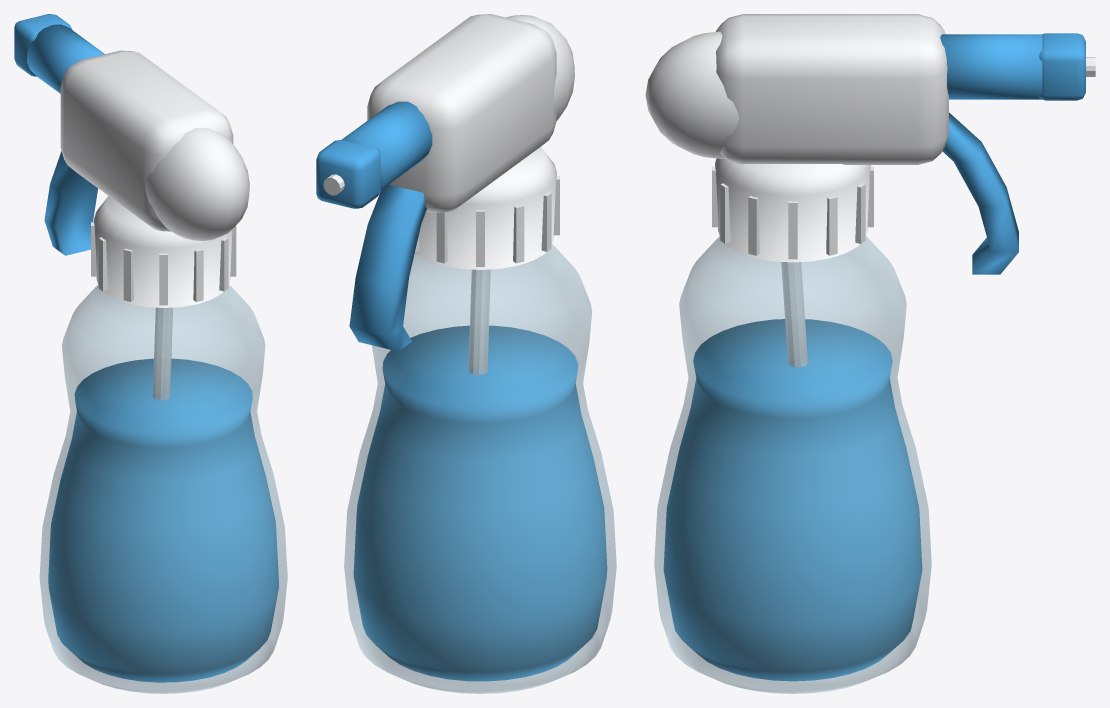
Rendered from spray_bottle.glb.
3 renders of one model, left to right at view 1: azimuth 30°, elevation 25°; view 2: azimuth 150°, elevation 25°; view 3: azimuth 270°, elevation 25°, orthographic. The views are drawn at different scales.
Parts seen in each view (by area): view 1: SprayBody, SprayWater, SprayHead, SprayTail, ScrewCollar, Trigger, NozzleBarrel, DipTube, NozzleTip, Cube.007, Cube.009, Cube.006 (+2 smaller); view 2: SprayBody, SprayWater, SprayHead, ScrewCollar, Trigger, NozzleBarrel, NozzleTip, DipTube, SprayTail, Cube.005, Cube.003, Cube.006 (+1 smaller); view 3: SprayBody, SprayWater, SprayHead, ScrewCollar, SprayTail, NozzleBarrel, Trigger, NozzleTip, DipTube.
Part boxes in pixels (<box>): SprayBody: <box>39,285,287,693</box>; SprayWater: <box>48,358,278,682</box>; SprayHead: <box>60,50,233,231</box>; SprayTail: <box>145,128,249,240</box>; ScrewCollar: <box>94,196,232,307</box>; Trigger: <box>44,151,97,255</box>; NozzleBarrel: <box>27,24,104,93</box>; DipTube: <box>152,307,172,400</box>; NozzleTip: <box>14,14,72,76</box>; Cube.007: <box>123,248,133,301</box>; Cube.009: <box>193,248,203,301</box>; Cube.006: <box>98,237,107,291</box>; SprayBody: <box>344,244,616,693</box>; SprayWater: <box>353,325,607,681</box>; SprayHead: <box>367,14,556,212</box>; ScrewCollar: <box>415,147,556,269</box>; Trigger: <box>349,184,427,351</box>; NozzleBarrel: <box>341,101,432,190</box>; NozzleTip: <box>316,140,380,208</box>; DipTube: <box>468,269,490,374</box>; SprayTail: <box>506,15,574,120</box>; Cube.005: <box>513,204,524,263</box>; Cube.003: <box>436,212,447,263</box>; Cube.006: <box>541,192,551,251</box>; SprayBody: <box>654,236,931,693</box>; SprayWater: <box>663,319,922,681</box>; SprayHead: <box>716,14,948,164</box>; ScrewCollar: <box>715,158,870,262</box>; SprayTail: <box>645,31,739,158</box>; NozzleBarrel: <box>940,34,1042,99</box>; Trigger: <box>942,112,1018,274</box>; NozzleTip: <box>1039,33,1085,100</box>; DipTube: <box>781,262,807,367</box>.
Size of the model in its own units: 0.089 by 0.22 by 0.1443.
